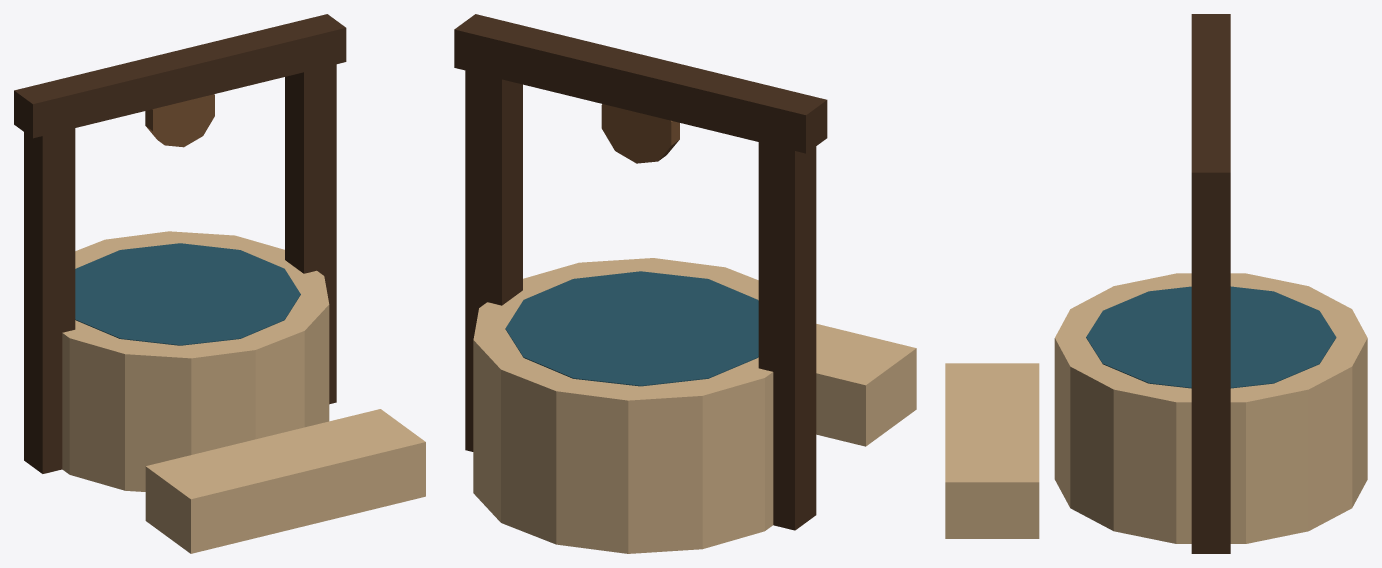
Rendered from well.glb.
3 views of the same model, side by side, from view 1: azimuth 30°, elevation 25°; view 2: azimuth 150°, elevation 25°; view 3: azimuth 270°, elevation 25° (orthographic). The views are drawn at different scales.
Parts seen in each view (by area): view 1: Well; view 2: Well; view 3: Well.
Boxes of the visible parts, left/top/right/bottom form: Well: left=14, top=14, right=425, bottom=553; Well: left=454, top=14, right=916, bottom=553; Well: left=945, top=14, right=1367, bottom=553.
Bounding box in the file's own units: 2.4 × 2.72 × 2.7.
